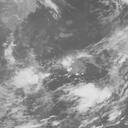cyclone: (46, 55, 110, 110)
